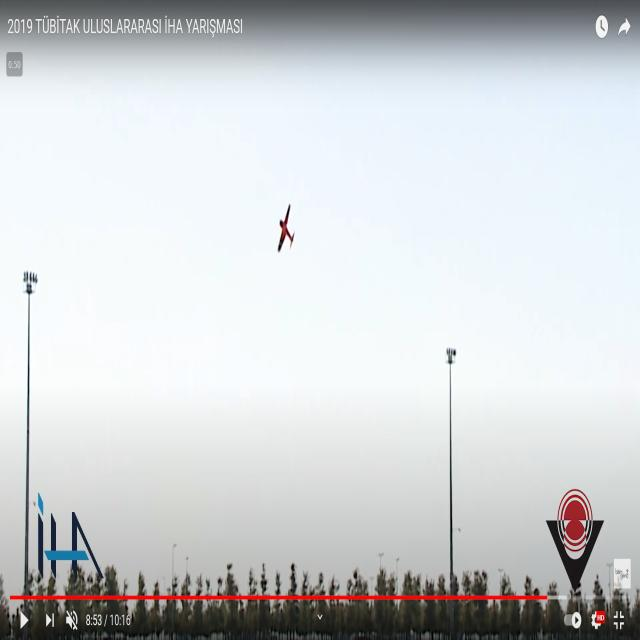iha: (276, 203, 296, 255)
